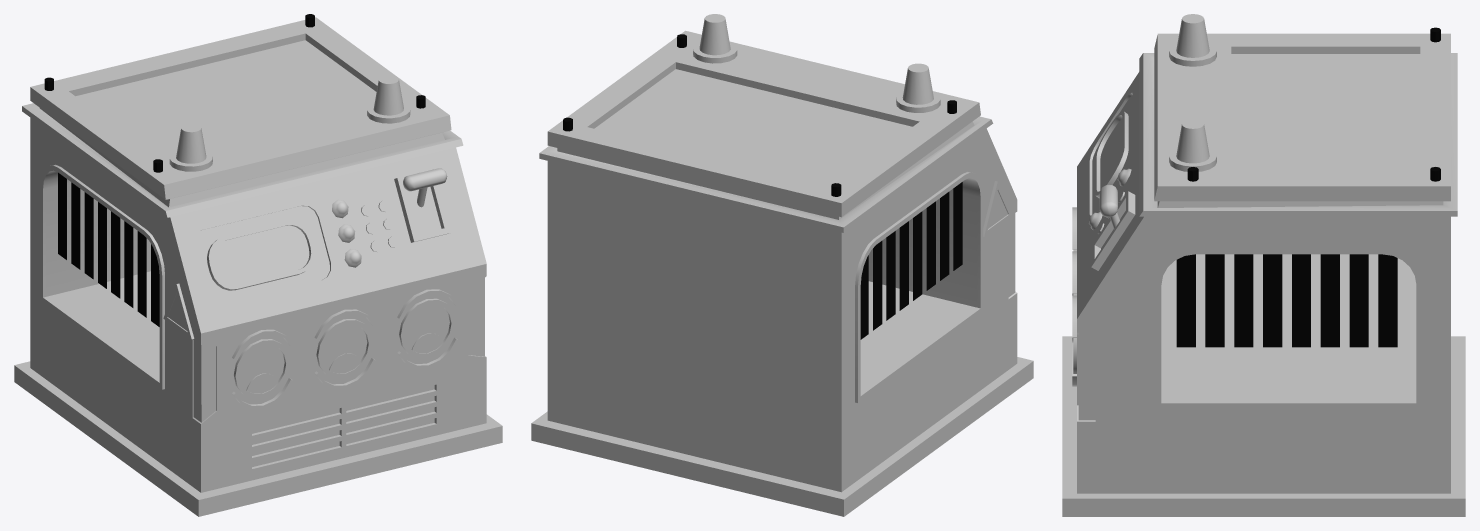
Rendered from Machn_v2_7.fbx.
The picture shows the model from 3 angles, left to right: view 1: azimuth 30°, elevation 25°; view 2: azimuth 150°, elevation 25°; view 3: azimuth 270°, elevation 25°; orthographic projection. The views are drawn at different scales.
Visible parts, largest first — view 1: Machn_v2_7, Plane_1.007, AlertOrange.020, AlertOrange.019, Pc_2.001; view 2: Machn_v2_7, Plane_1.007, AlertOrange.019, AlertOrange.020; view 3: Machn_v2_7, Plane_2.007, AlertOrange.019, AlertOrange.020, Pc_2.001.
Part boxes in pixels (x1,y1,x2,y2): Machn_v2_7: [14, 14, 502, 516]; Plane_1.007: [58, 172, 159, 326]; AlertOrange.020: [367, 75, 410, 123]; AlertOrange.019: [169, 123, 212, 171]; Pc_2.001: [403, 168, 447, 207]; Machn_v2_7: [531, 30, 1033, 516]; Plane_1.007: [860, 182, 962, 339]; AlertOrange.019: [896, 63, 940, 112]; AlertOrange.020: [693, 14, 737, 63]; Machn_v2_7: [1062, 27, 1465, 516]; Plane_2.007: [1176, 254, 1397, 347]; AlertOrange.019: [1169, 14, 1216, 66]; AlertOrange.020: [1169, 119, 1216, 171]; Pc_2.001: [1099, 184, 1119, 229].
Bounding box in the file's own units: 263 × 275 × 276.
